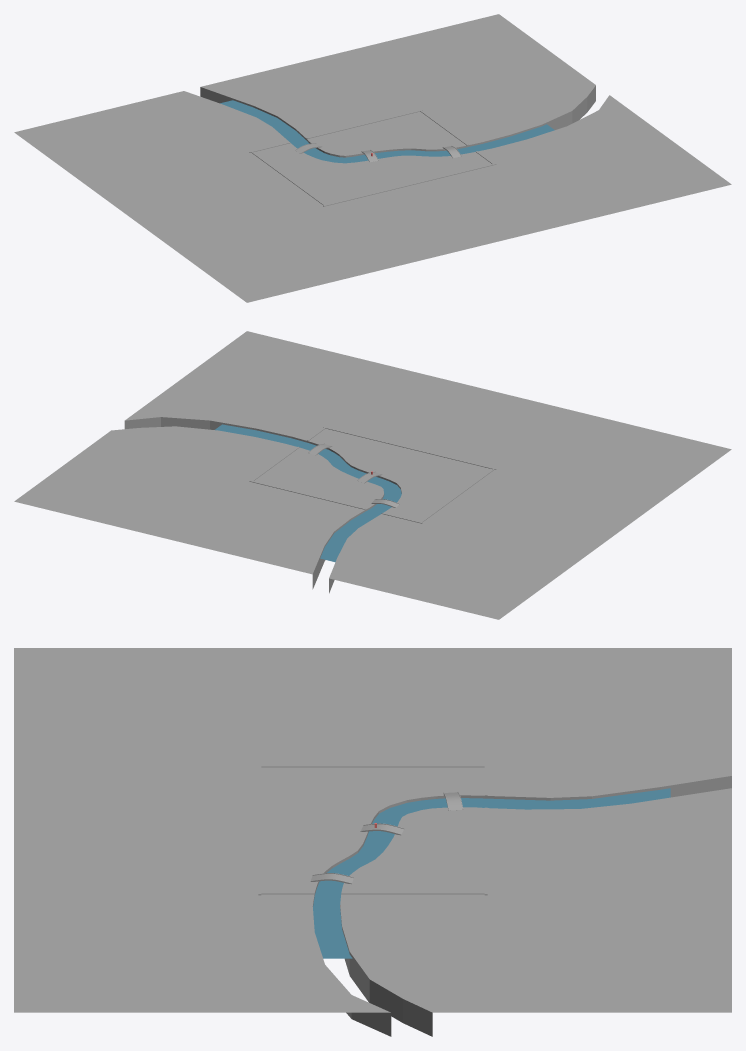
File: TempMapTest1.fbx
The picture shows the model from 3 angles, top to bottom: view 1: azimuth 30°, elevation 25°; view 2: azimuth 150°, elevation 25°; view 3: azimuth 270°, elevation 25°; orthographic projection. The views are drawn at different scales.
Parts seen in each view (by area): view 1: MapMain, River, Stroke; view 2: MapMain, River, Stroke; view 3: MapMain, River, Stroke.
Part boxes in pixels (box(x1,y1,x2,y2)): MapMain: box(14, 14, 731, 302); River: box(220, 100, 554, 163); Stroke: box(249, 110, 496, 206); MapMain: box(14, 331, 731, 619); River: box(215, 424, 401, 562); Stroke: box(249, 427, 496, 523); MapMain: box(14, 648, 731, 1036); River: box(313, 788, 670, 958); Stroke: box(258, 764, 487, 895).
Size of the model in its own units: 290 by 11.55 by 241.
